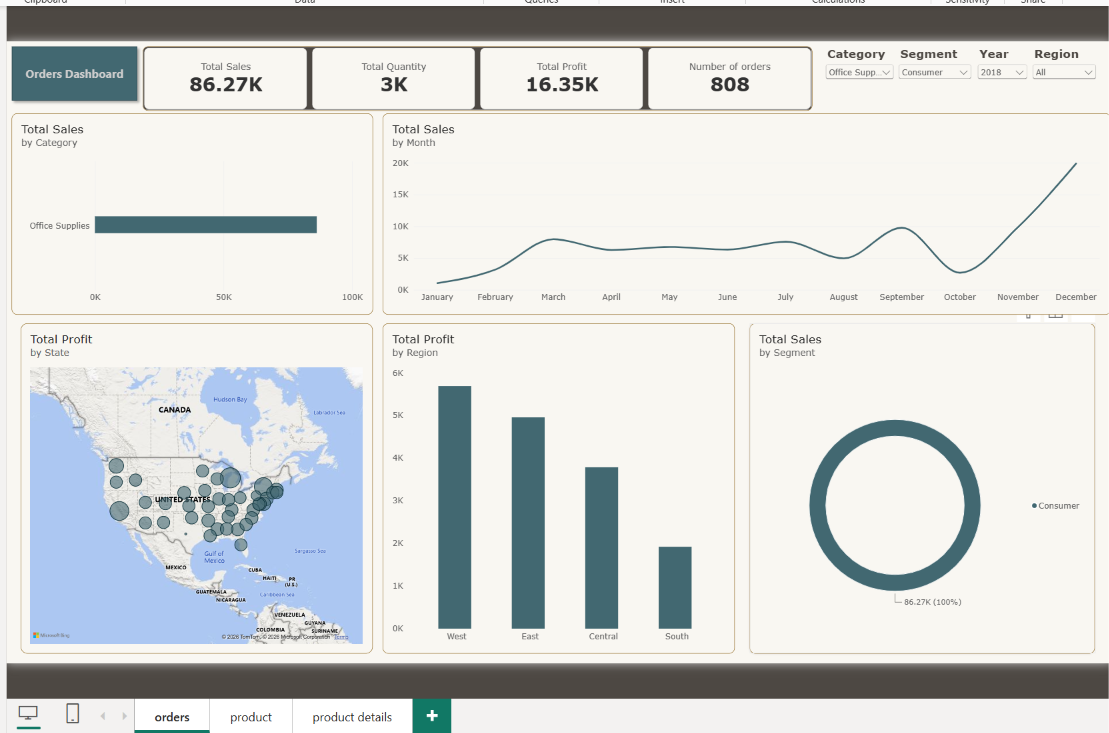

The page's visual inventory and layout, read from the dashboard file:
{"tool":"powerbi","page":{"name":"orders","canvas":[1920,1080],"ordinal":0},"visuals":[{"type":"cardVisual","fields":{"Data":["Orders.Total Sales","Orders.Total Quantity","Orders.Total Profit","Orders.Number of orders"]},"box":[236,8,1164,112],"z":0},{"type":"clusteredBarChart","fields":{"Category":["Orders.Category"],"Y":["Orders.Total Sales"]},"box":[8,126,628,350],"z":1000},{"type":"clusteredColumnChart","fields":{"Category":["People.Region"],"Y":["Orders.Total Profit"]},"box":[654,490,612,574],"z":2000},{"type":"donutChart","fields":{"Category":["Orders.Segment"],"Y":["Orders.Total Sales"]},"box":[1292,490,600,574],"z":3000},{"type":"lineChart","fields":{"Category":["Orders.Order Date.Variation.Date Hierarchy.Year","Orders.Order Date.Variation.Date Hierarchy.Quarter","Orders.Order Date.Variation.Date Hierarchy.Month","Orders.Order Date.Variation.Date Hierarchy.Day"],"Y":["Orders.Total Sales"]},"box":[654,126,1266,350],"z":4000},{"type":"slicer","fields":{"Values":["Orders.Order Date.Variation.Date Hierarchy.Year"]},"box":[1682,8,96,64],"z":5000},{"type":"slicer","fields":{"Values":["Orders.Category"]},"box":[1418,8,128,78],"z":6000},{"type":"slicer","fields":{"Values":["Orders.Region"]},"box":[1778,8,120,64],"z":7000},{"type":"slicer","fields":{"Values":["Orders.Segment"]},"box":[1546,8,136,56],"z":8000},{"type":"shape","box":[0,0,236,112],"z":9000},{"type":"map","fields":{"Size":["Orders.Total Profit"],"Category":["Orders.State"]},"box":[24,490,612,574],"z":10000}]}

Visuals, with their boxes on the page's 1920x1080 design canvas (x1, y1, x2, y2). These are canvas units, not pixel positions in the 1109x733 screenshot, which may show the page scaled, cropped or inside an application window:
cardVisual - Orders.Total Sales x Orders.Total Quantity: [236, 8, 1400, 120]
clusteredBarChart - Orders.Category x Orders.Total Sales: [8, 126, 636, 476]
clusteredColumnChart - People.Region x Orders.Total Profit: [654, 490, 1266, 1064]
donutChart - Orders.Segment x Orders.Total Sales: [1292, 490, 1892, 1064]
lineChart - Orders.Order Date.Variation.Date Hierarchy.Year x Orders.Order Date.Variation.Date Hierarchy.Quarter: [654, 126, 1920, 476]
slicer - Orders.Order Date.Variation.Date Hierarchy.Year: [1682, 8, 1778, 72]
slicer - Orders.Category: [1418, 8, 1546, 86]
slicer - Orders.Region: [1778, 8, 1898, 72]
slicer - Orders.Segment: [1546, 8, 1682, 64]
shape: [0, 0, 236, 112]
map - Orders.Total Profit x Orders.State: [24, 490, 636, 1064]
